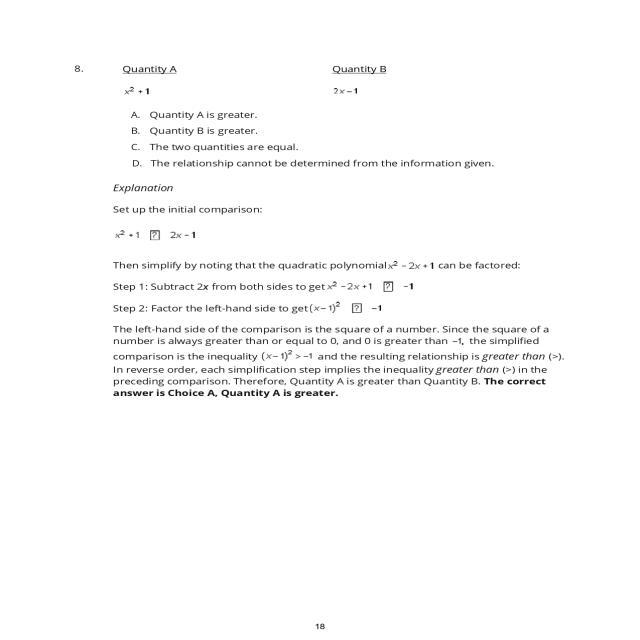Answer_Block: (69, 101, 576, 178)
Description: (69, 176, 576, 410)
Question_Answer_Block: (69, 50, 576, 178)
Question_Block: (69, 51, 576, 104)
Question_Paper_Area: (69, 51, 576, 634)
